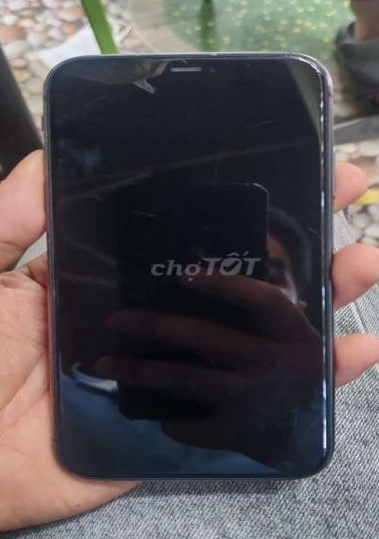scratch: (310, 86, 333, 459), (162, 52, 255, 72), (284, 52, 328, 76)
